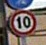limite 10: (8, 9, 37, 35)
